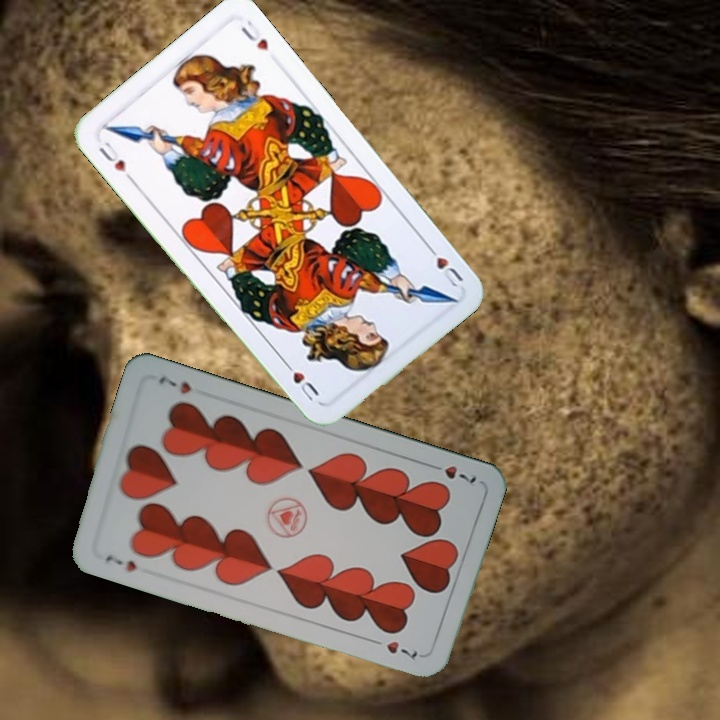H7: (424, 459, 479, 486), (100, 550, 140, 575)
HU: (422, 240, 466, 292), (95, 137, 136, 184)
